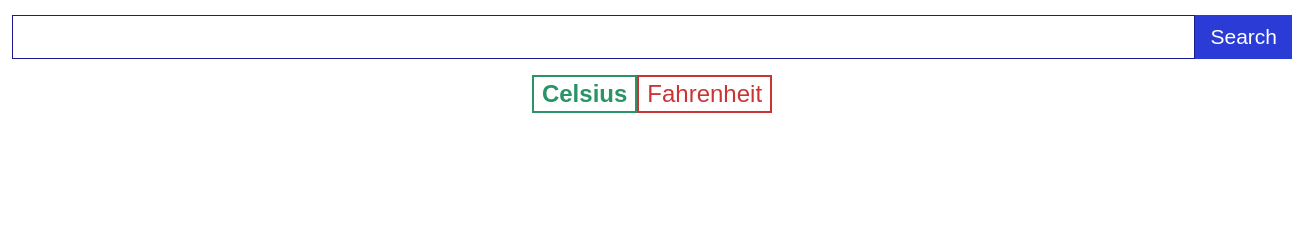
Test: Forecast › Should show the Error component with "Something went wrong" when a rejection is received
The image size is (1304, 228).
In the field with test id "search-input": (604, 37) [12,15,1196,59], type "San-francisco"
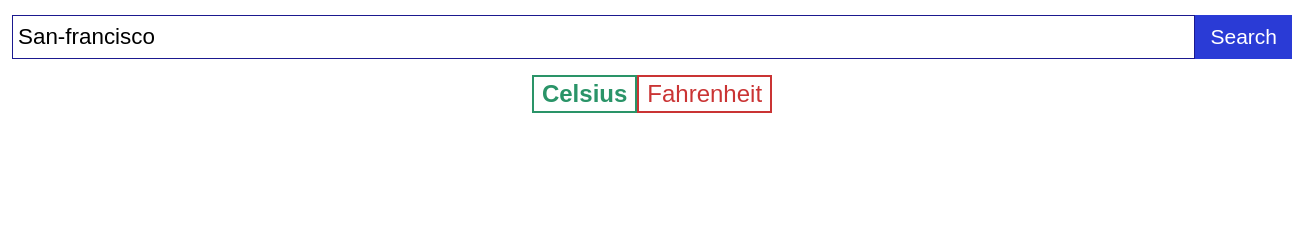
Submit the form with test id "forecast-form", box [12,15,1292,113]
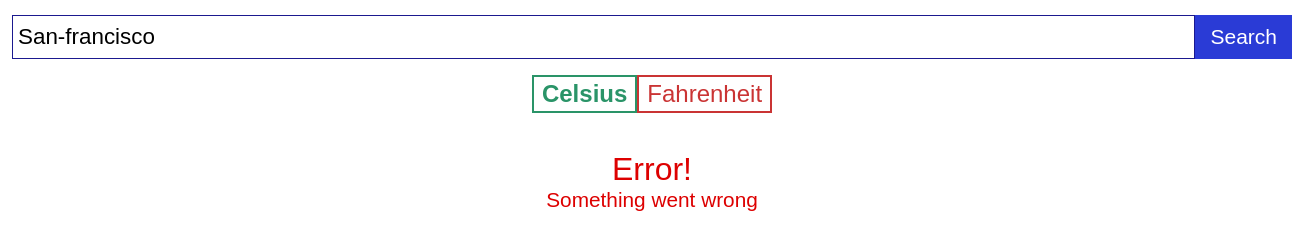
Expected: the text "Something went wrong" is shown, [546,190,758,211]
